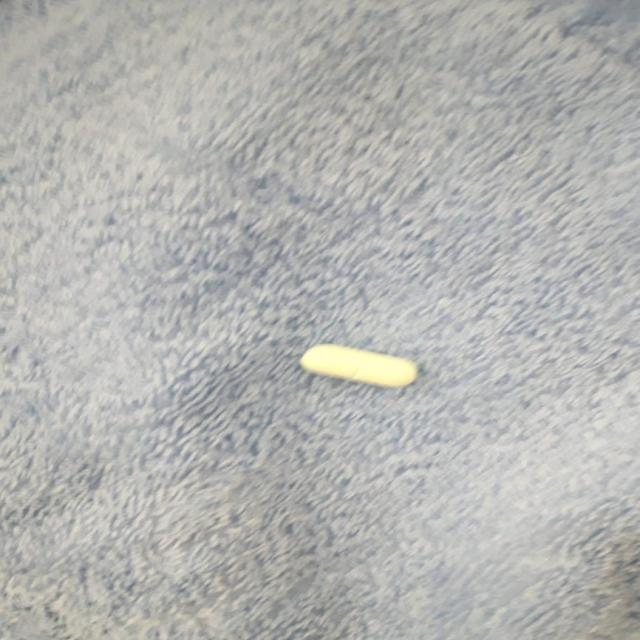pill: (297, 340, 423, 390)
